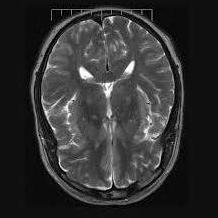Normal_Brain: (1, 2, 218, 218)
